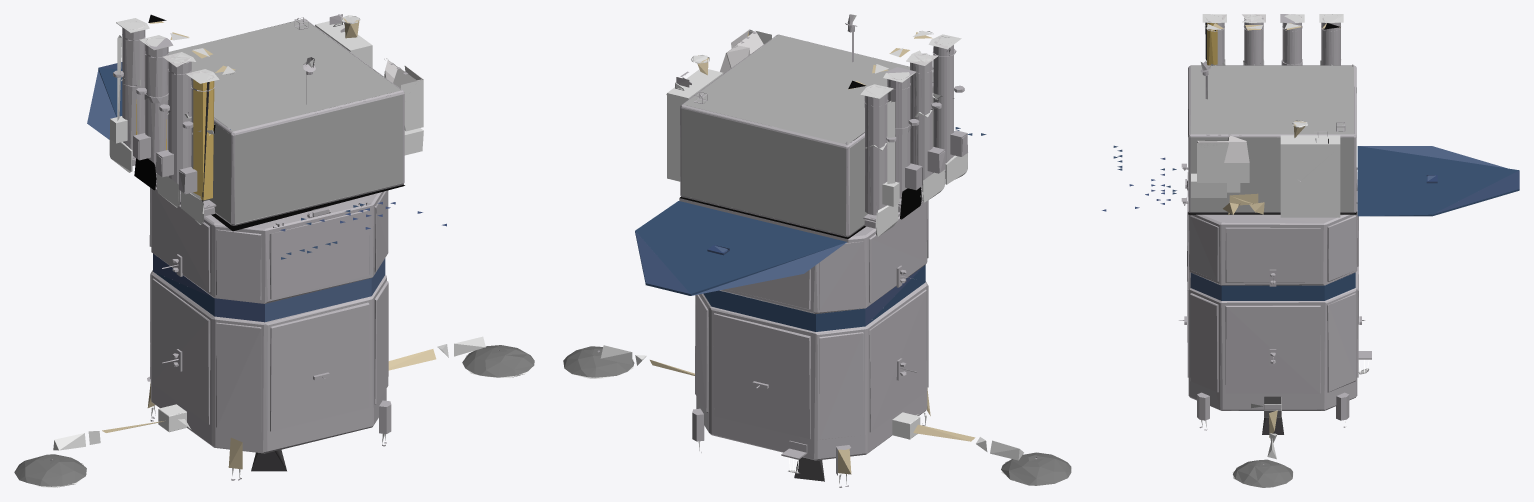
The model's file is sdo-preview.glb.
3 views of the same model, side by side, from view 1: azimuth 30°, elevation 25°; view 2: azimuth 150°, elevation 25°; view 3: azimuth 270°, elevation 25° (orthographic). The views are drawn at different scales.
Visible parts, largest first — view 1: Fake; view 2: Fake; view 3: Fake.
Boxes of the visible parts, box(x1,y1,x2,y2) form: Fake: box(14, 14, 534, 487); Fake: box(563, 14, 1071, 487); Fake: box(1102, 14, 1519, 487).
Bounding box in the file's own units: 37.02 × 30.7 × 31.33.
